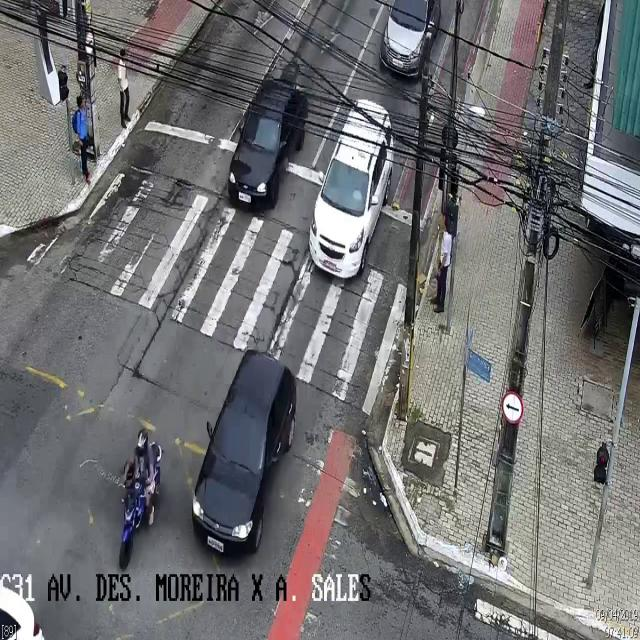Car: (192, 347, 294, 561), (310, 100, 393, 284), (228, 78, 306, 214), (382, 1, 441, 83)
Motorcycle: (118, 430, 160, 574)
